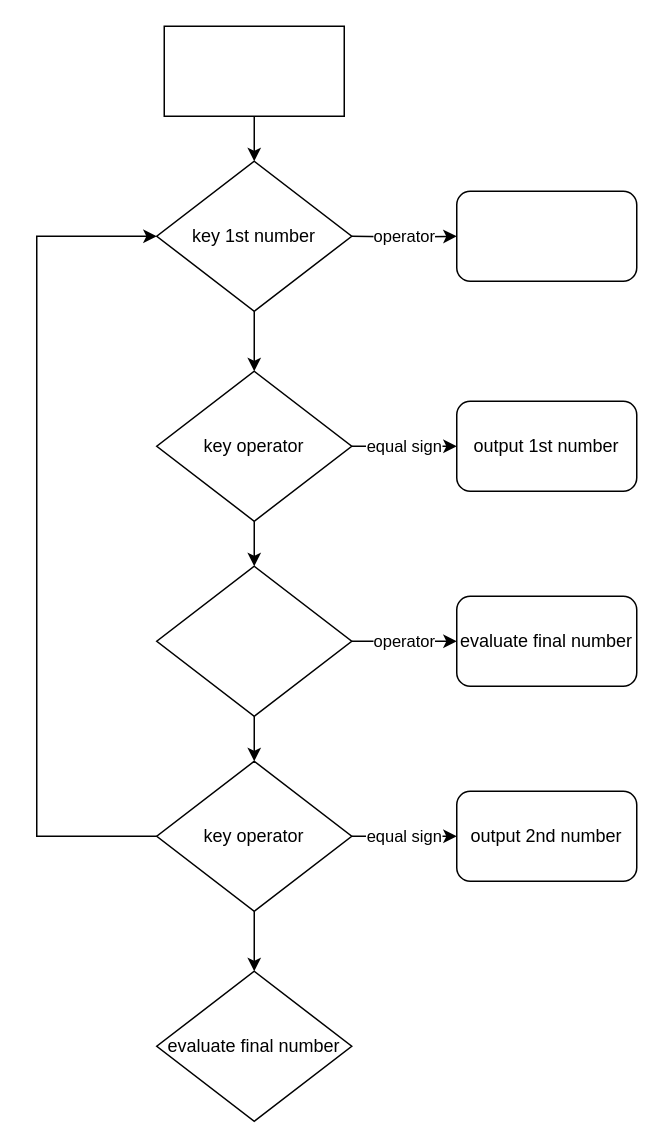
This 663x1148 diagram has some shape labels left out. Here are the shapes that lost their labels. From the top down, the centre of each, then its label:
At (x=253, y=70): "start".
At (x=546, y=235): "display no change".
At (x=253, y=640): "key 2nd number".
